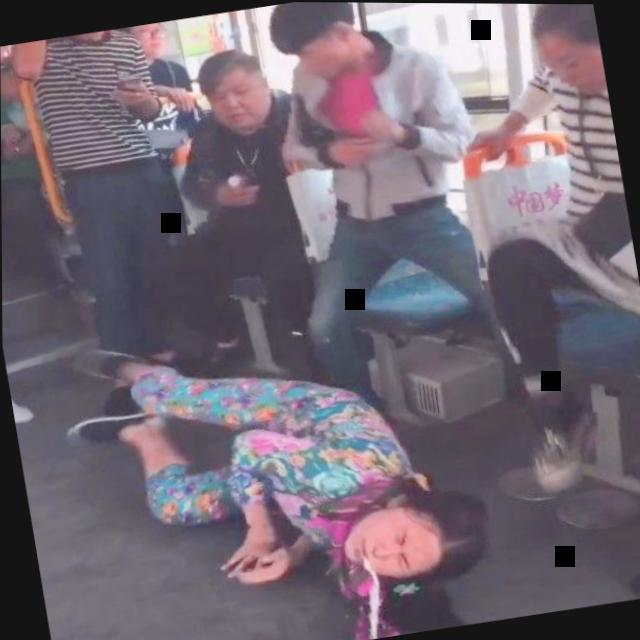Fall-Detected: (39, 285, 512, 640)
